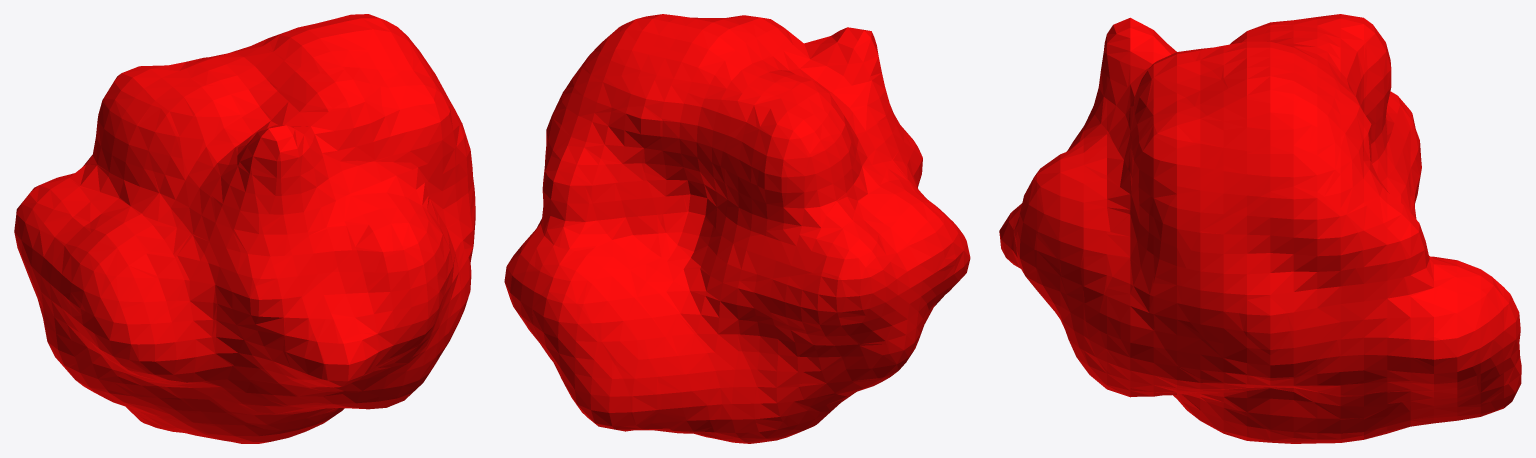
File: rimL_coarse.dae
3 renders of one model, left to right at view 1: azimuth 30°, elevation 25°; view 2: azimuth 150°, elevation 25°; view 3: azimuth 270°, elevation 25°, orthographic. The views are drawn at different scales.
Visible parts, largest first — view 1: rimL; view 2: rimL; view 3: rimL.
Part boxes in pixels (box(x1,y1,x2,y2)): rimL: box(14, 14, 475, 443); rimL: box(504, 14, 970, 443); rimL: box(999, 14, 1521, 443).
Bounding box in the file's own units: 44.88 × 41.81 × 48.76.
